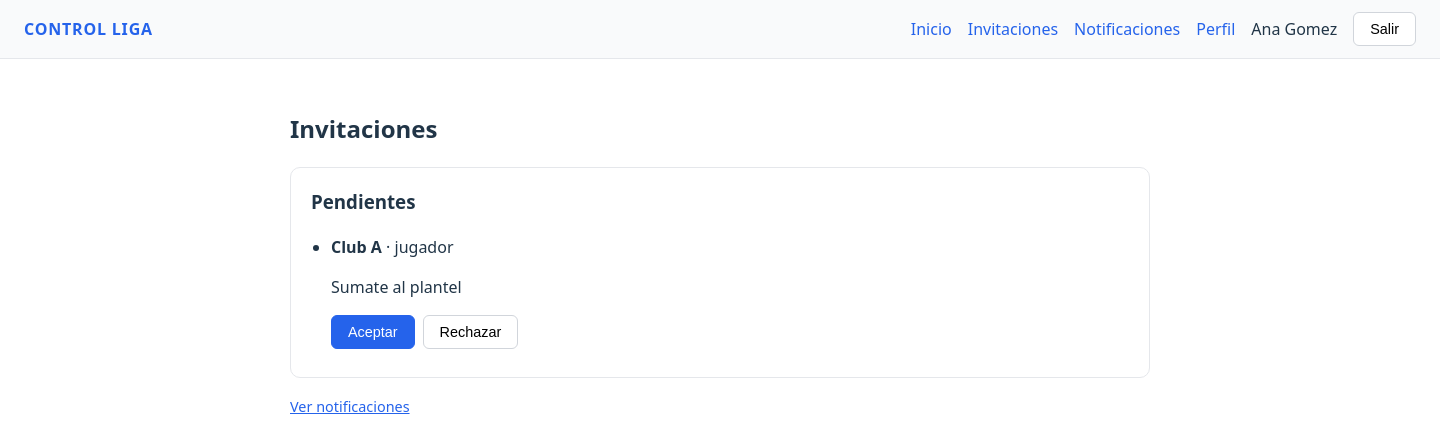
Test: InvitacionesPage › rechaza una invitación
The image size is (1440, 431).
Expected: the text "Club A" is shown, [331,236,382,258]
Click the button "Rechazar" at (470, 332), box [423,315,518,349]
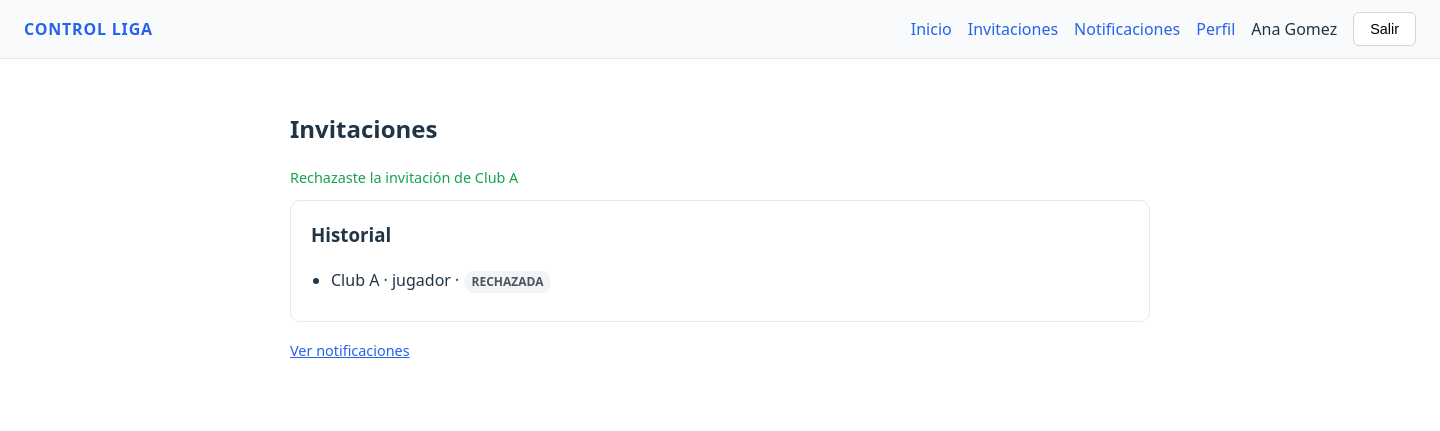
Expected: the text "Rechazaste la invitación de Club A" is shown, [290,168,518,187]
